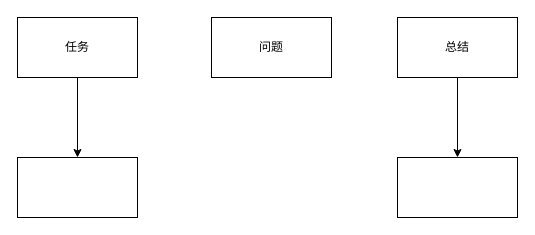
This 535x235 diagram has some shape labels left out. The centre of each missing label's shape, as x and y in pixels:
PHP ??只判断为null 其他类型不判断: point 457,187
完成素材网 用户 收益功能 的用户登录衰减 连续领取衰减: point 77,187
